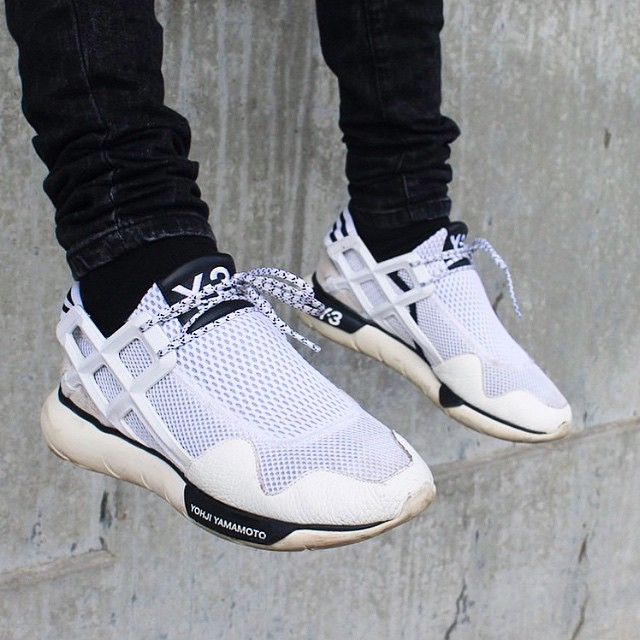sneaker: (16, 217, 451, 576), (272, 184, 587, 459)
